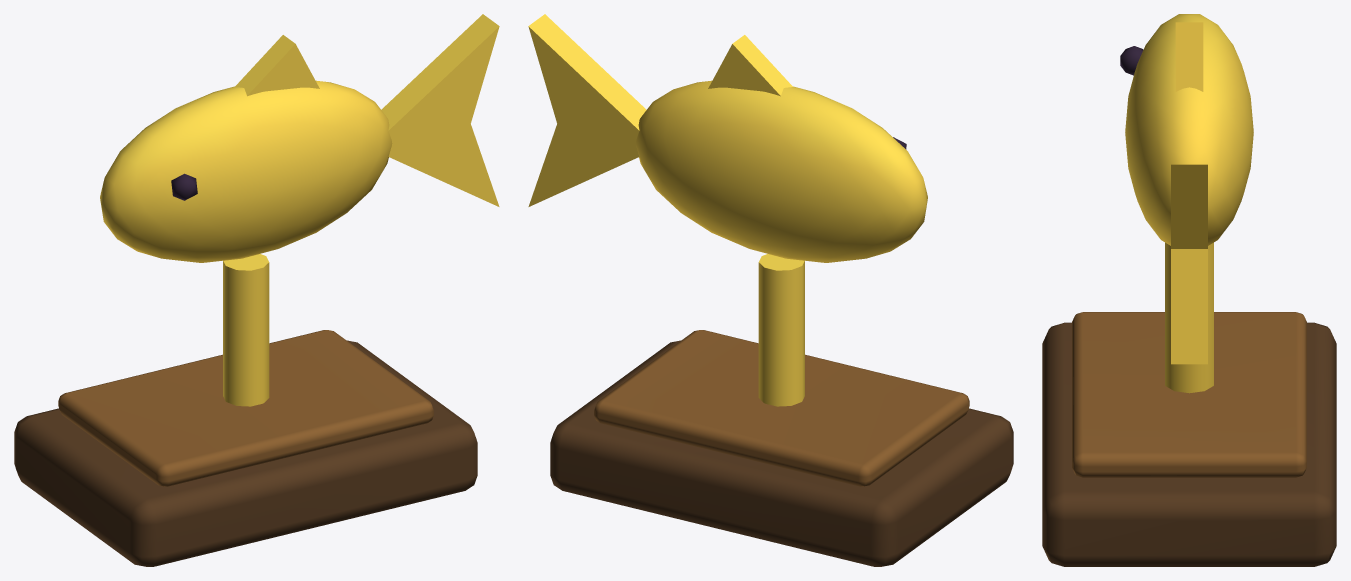
The model's file is furn_fish_trophy.glb.
The picture shows the model from 3 angles, left to right: view 1: azimuth 30°, elevation 25°; view 2: azimuth 150°, elevation 25°; view 3: azimuth 270°, elevation 25°; orthographic projection. The views are drawn at different scales.
Parts seen in each view (by area): view 1: furn_fish_trophy_main, furn_fish_trophy_gloss; view 2: furn_fish_trophy_main, furn_fish_trophy_gloss; view 3: furn_fish_trophy_main, furn_fish_trophy_gloss.
Boxes of the visible parts, <box> form: furn_fish_trophy_main: <box>14,173,477,566</box>; furn_fish_trophy_gloss: <box>100,14,499,406</box>; furn_fish_trophy_main: <box>550,137,1013,566</box>; furn_fish_trophy_gloss: <box>528,14,927,406</box>; furn_fish_trophy_main: <box>1042,46,1336,566</box>; furn_fish_trophy_gloss: <box>1125,14,1253,393</box>.
Bounding box in the file's own units: 0.29 × 0.29 × 0.16.
